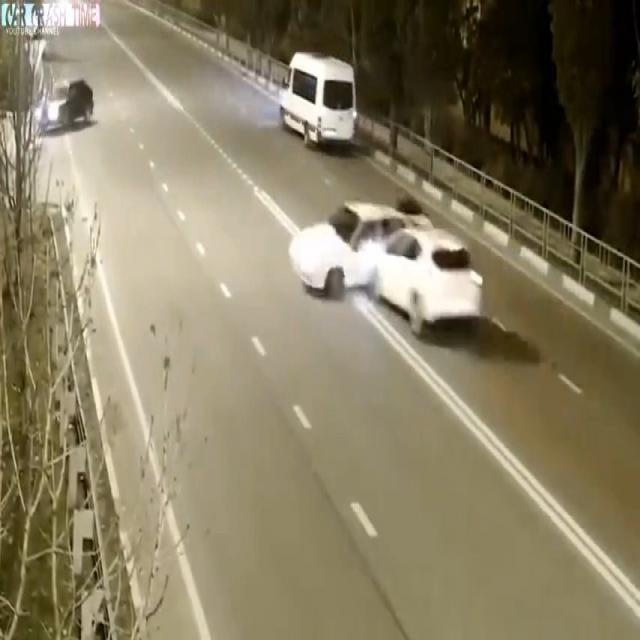Accident: (305, 166, 468, 356)
